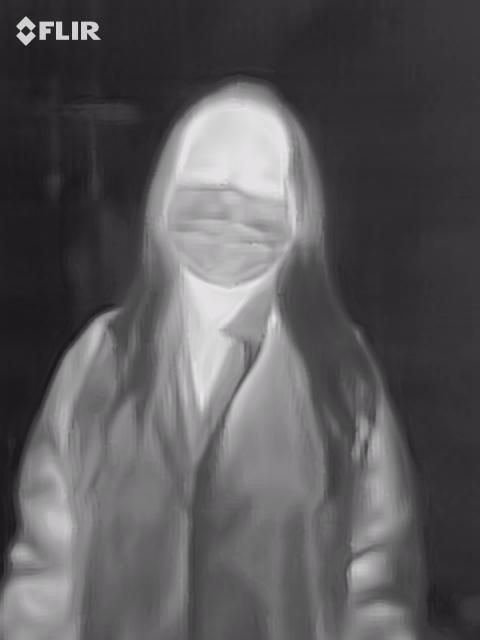head: (146, 79, 325, 288)
